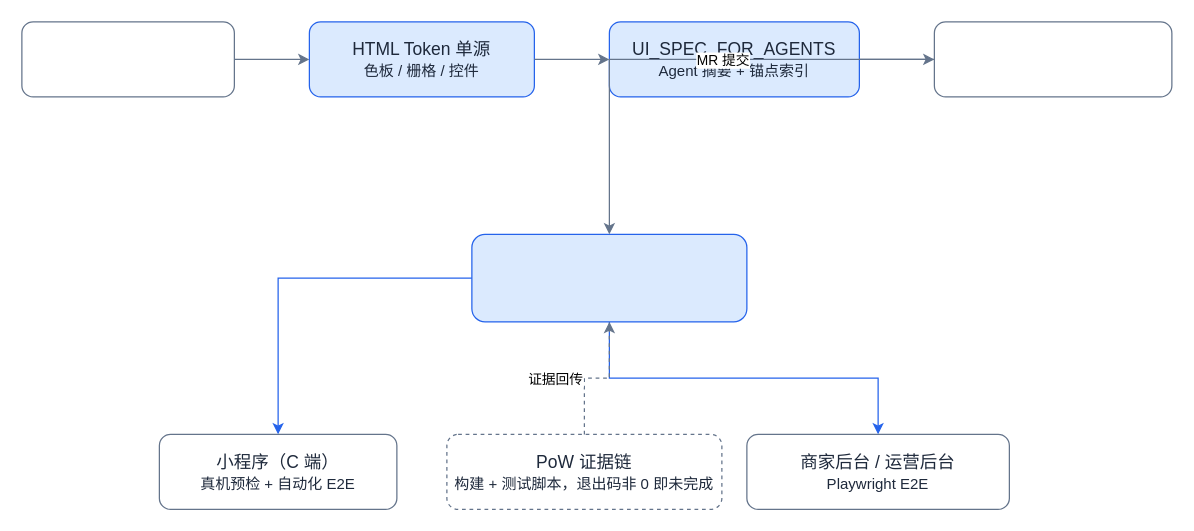
This 1194x531 diagram has some shape labels left out. The shapes that lost their labels are listed below. From the top down, each one's centre as x and y in pixels, then its label:
At (x=127, y=59): "设计规范 PDF 设计源头".
At (x=1052, y=59): "Mode 2 工作流 工单系统建单 → 实现 → 验证".
At (x=609, y=277): "e2e-flow-registry 门禁 git diff → 业务域 → 查表".
